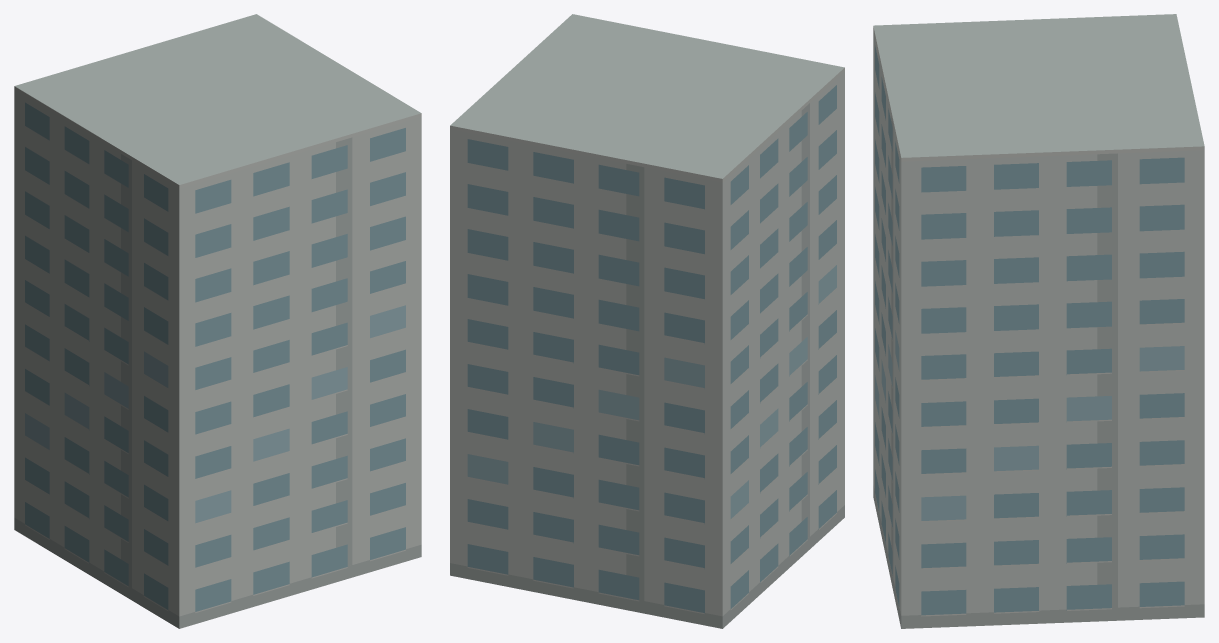
Rendered from residential-8e425111-2c47-42e3-a32e-ce6748f1f6e2.glb.
The picture shows the model from 3 angles, left to right: view 1: azimuth 30°, elevation 25°; view 2: azimuth 150°, elevation 25°; view 3: azimuth 270°, elevation 25°; orthographic projection. The views are drawn at different scales.
Parts seen in each view (by area): view 1: residential-8e425111-2c47-42e3-a32e-ce6748f1f6e2.tmp; view 2: residential-8e425111-2c47-42e3-a32e-ce6748f1f6e2.tmp; view 3: residential-8e425111-2c47-42e3-a32e-ce6748f1f6e2.tmp.
Part boxes in pixels (bbox=[...]): residential-8e425111-2c47-42e3-a32e-ce6748f1f6e2.tmp: bbox=[14, 14, 421, 628]; residential-8e425111-2c47-42e3-a32e-ce6748f1f6e2.tmp: bbox=[450, 14, 844, 628]; residential-8e425111-2c47-42e3-a32e-ce6748f1f6e2.tmp: bbox=[873, 14, 1204, 628].
Bounding box in the file's own units: 19.66 × 30 × 19.14.
